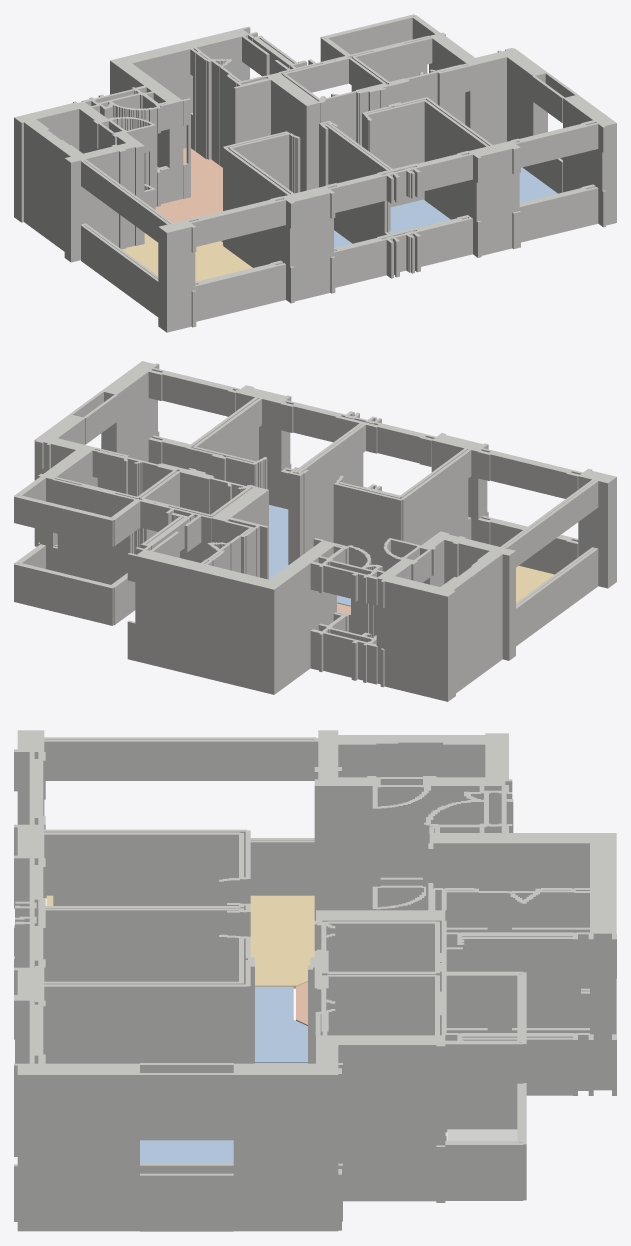
The picture shows the model from 3 angles, top to bottom: view 1: azimuth 30°, elevation 25°; view 2: azimuth 150°, elevation 25°; view 3: azimuth 270°, elevation 25°; orthographic projection. The views are drawn at different scales.
Parts seen in each view (by area): view 1: walls, room:kitchen:0, room:living:4, room:bedroom:7, room:bedroom:8; view 2: walls, room:bedroom:7, room:living:4; view 3: walls, room:living:4, room:bedroom:5, room:bedroom:8, room:ledge:6.
Part boxes in pixels (box(x1,y1,x2,y2)): walls: box(14, 14, 616, 332); room:kitchen:0: box(155, 148, 222, 222); room:living:4: box(122, 233, 252, 281); room:bedroom:7: box(390, 199, 450, 232); room:bedroom:8: box(519, 167, 557, 202); walls: box(14, 361, 616, 701); room:bedroom:7: box(269, 505, 288, 579); room:living:4: box(516, 566, 554, 602); walls: box(14, 730, 616, 1231); room:living:4: box(46, 895, 314, 988); room:bedroom:5: box(255, 986, 307, 1062); room:bedroom:8: box(140, 1140, 233, 1163); room:ledge:6: box(447, 1129, 517, 1140).
Bounding box in the file's own units: 13.22 × 2.8 × 9.78.
